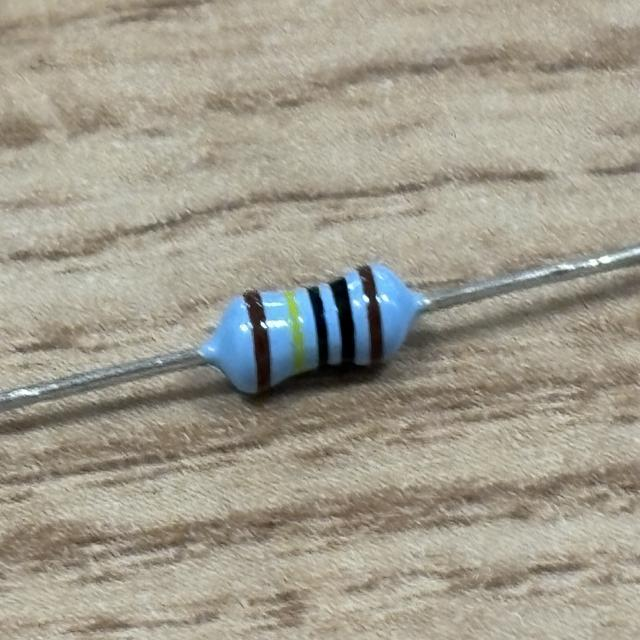resistor: (214, 256, 410, 402)
